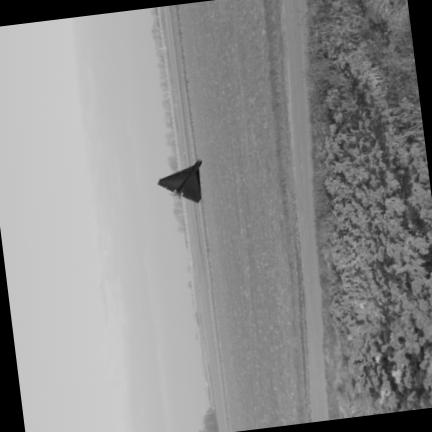Shahed: (158, 159, 200, 201)
